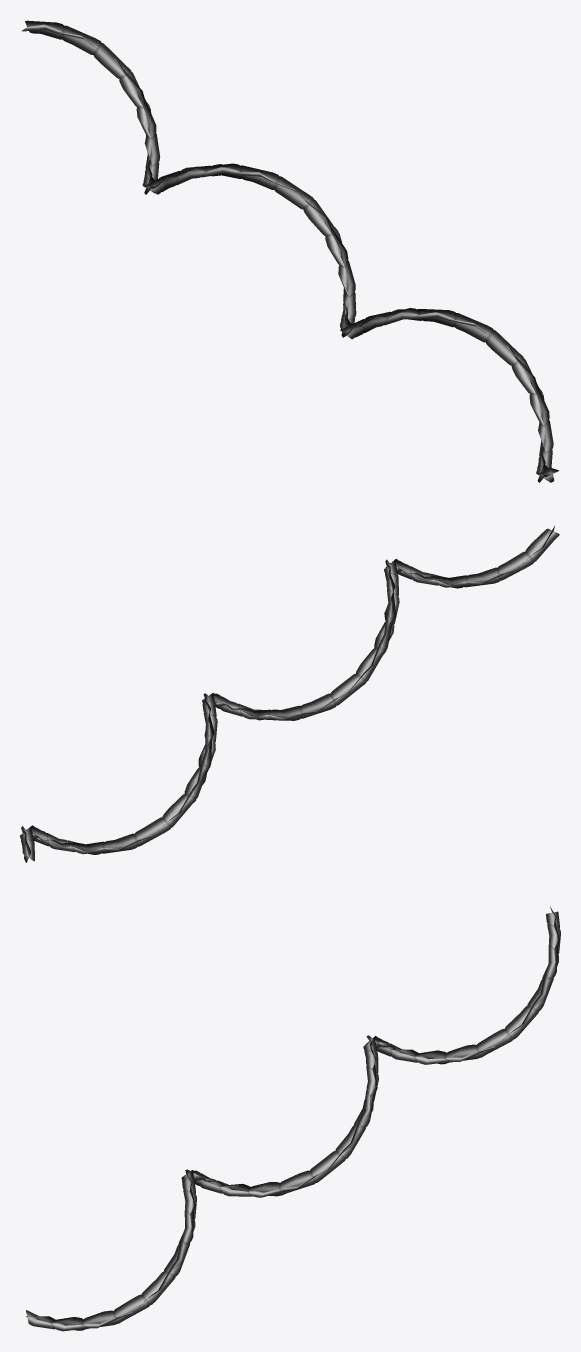
3 renders of one model, top to bottom at view 1: azimuth 30°, elevation 25°; view 2: azimuth 150°, elevation 25°; view 3: azimuth 330°, elevation 25°, orthographic. The views are drawn at different scales.
Visible parts, largest first — view 1: T1L5M004_4; view 2: T1L5M004_4; view 3: T1L5M004_4.
Part boxes in pixels (x1,y1,x2,y2): T1L5M004_4: (22,20,558,482); T1L5M004_4: (20,526,559,862); T1L5M004_4: (26,906,560,1331).
Bounding box in the file's own units: 0.4189 × 0.4189 × 4.
